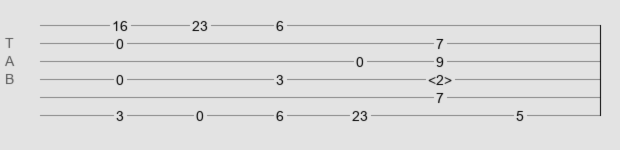0: (116, 36, 124, 46), (116, 72, 124, 82), (196, 108, 204, 118), (356, 54, 364, 64)
16: (112, 18, 128, 28)
23: (192, 18, 208, 28), (352, 108, 368, 118)
3: (116, 108, 124, 118), (276, 72, 284, 82)
5: (516, 108, 524, 118)
6: (276, 108, 284, 118), (276, 18, 284, 28)
7: (436, 90, 444, 100), (436, 36, 444, 46)
9: (436, 54, 444, 64)
harmonic: (428, 72, 452, 82)
